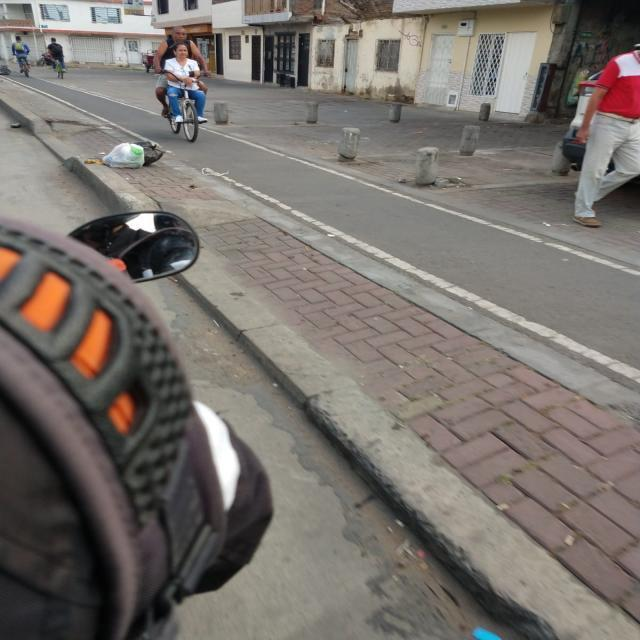Garbage_Bag: (102, 140, 146, 170), (136, 140, 164, 164)
